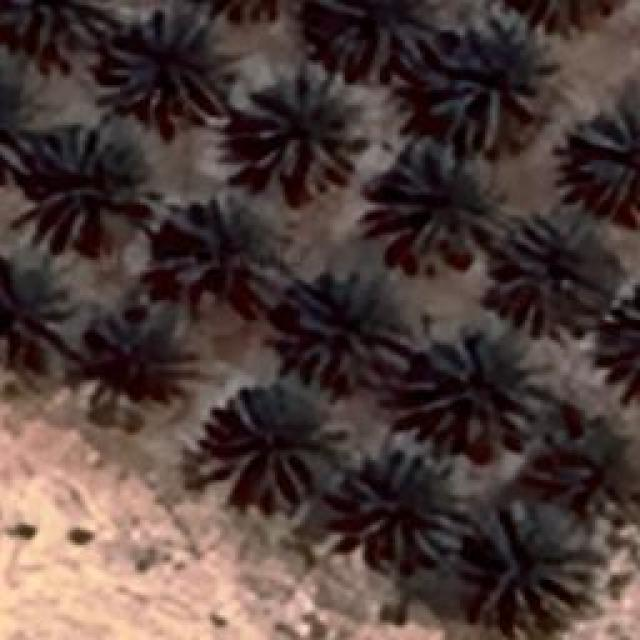PalmTree: (360, 140, 502, 272), (405, 318, 545, 450), (210, 382, 348, 510), (155, 187, 290, 315), (415, 20, 550, 148), (28, 123, 162, 250), (242, 62, 370, 190), (100, 10, 232, 130), (348, 435, 468, 563), (285, 272, 410, 390), (480, 500, 598, 620), (490, 210, 602, 325), (315, 0, 443, 80), (96, 311, 189, 414), (0, 0, 114, 73), (574, 90, 638, 220), (0, 267, 72, 370), (548, 414, 620, 512), (586, 278, 640, 404), (0, 66, 46, 193), (515, 0, 625, 40), (179, 0, 306, 28)
